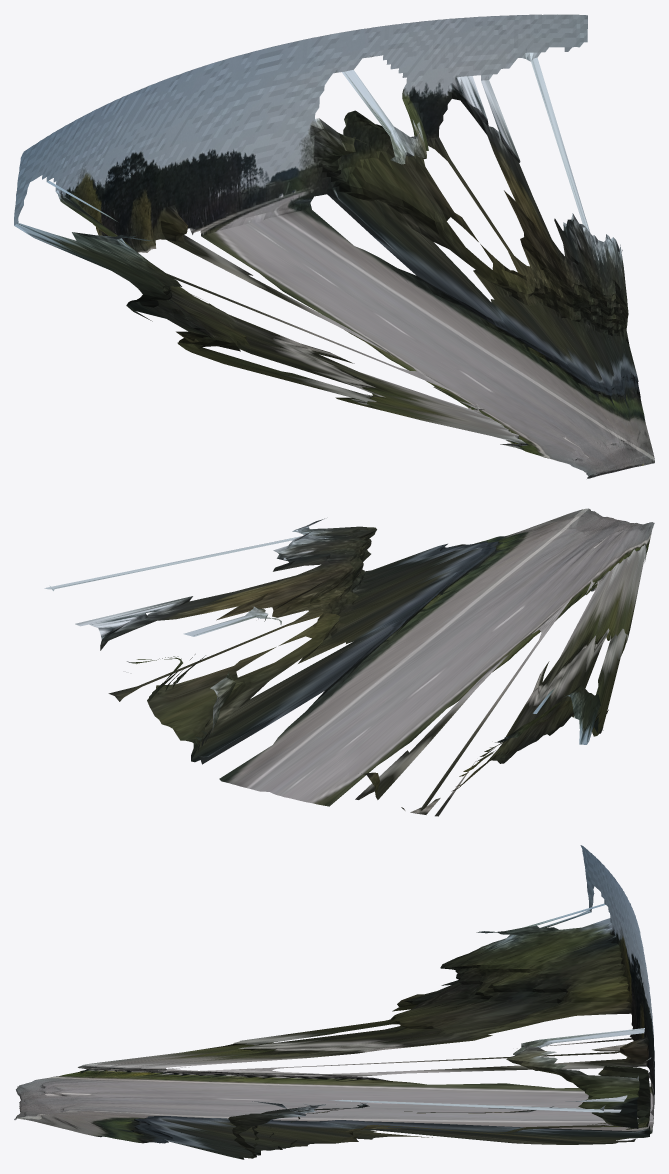
3 views of the same model, one above another, from view 1: azimuth 30°, elevation 25°; view 2: azimuth 150°, elevation 25°; view 3: azimuth 270°, elevation 25° (orthographic). The views are drawn at different scales.
Parts seen in each view (by area): view 1: defaultobject; view 2: defaultobject; view 3: defaultobject.
Part boxes in pixels (bbox=[...]): defaultobject: bbox=[14, 14, 654, 478]; defaultobject: bbox=[44, 508, 654, 816]; defaultobject: bbox=[14, 845, 654, 1159].
Size of the model in its own units: 40.95 by 12.18 by 44.55.
Materials: 1 (1 with a texture image).
